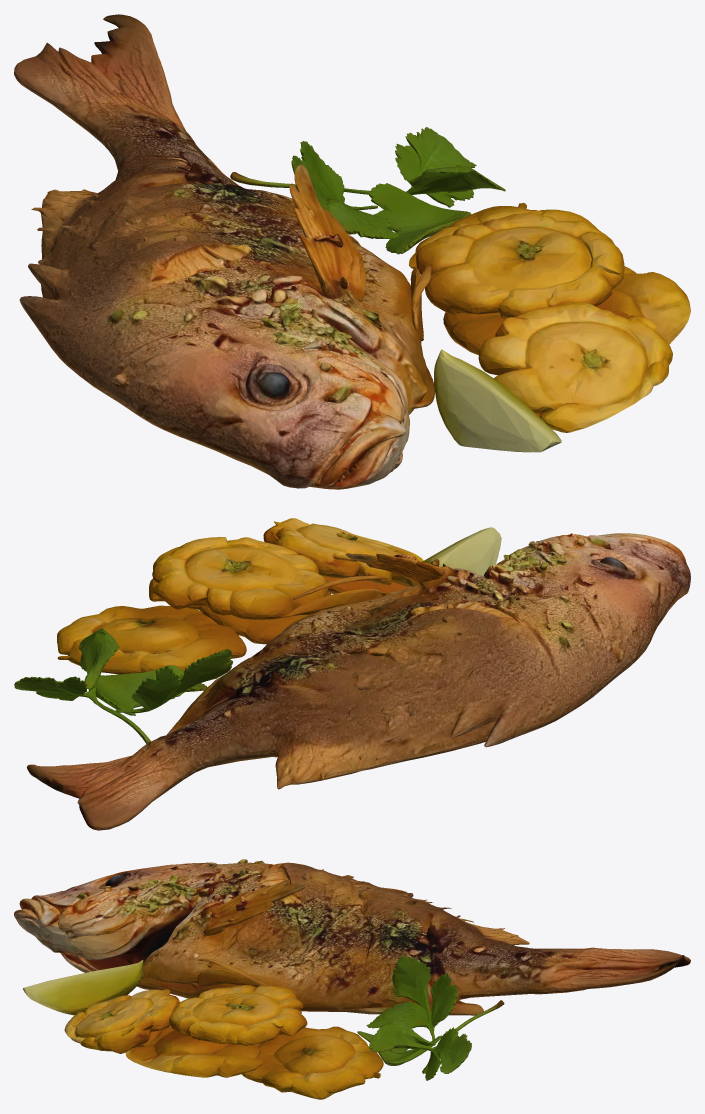
The model's file is pescado-frito.glb.
3 views of the same model, one above another, from view 1: azimuth 30°, elevation 25°; view 2: azimuth 150°, elevation 25°; view 3: azimuth 270°, elevation 25° (orthographic). The views are drawn at different scales.
Parts seen in each view (by area): view 1: geometry_0; view 2: geometry_0; view 3: geometry_0.
Part boxes in pixels (x1,y1,x2,y2): geometry_0: (14, 14, 690, 489); geometry_0: (14, 518, 690, 830); geometry_0: (14, 859, 690, 1099).
Size of the model in its own units: 0.1963 by 0.0561 by 0.2999.
1 material, 1 textured.
